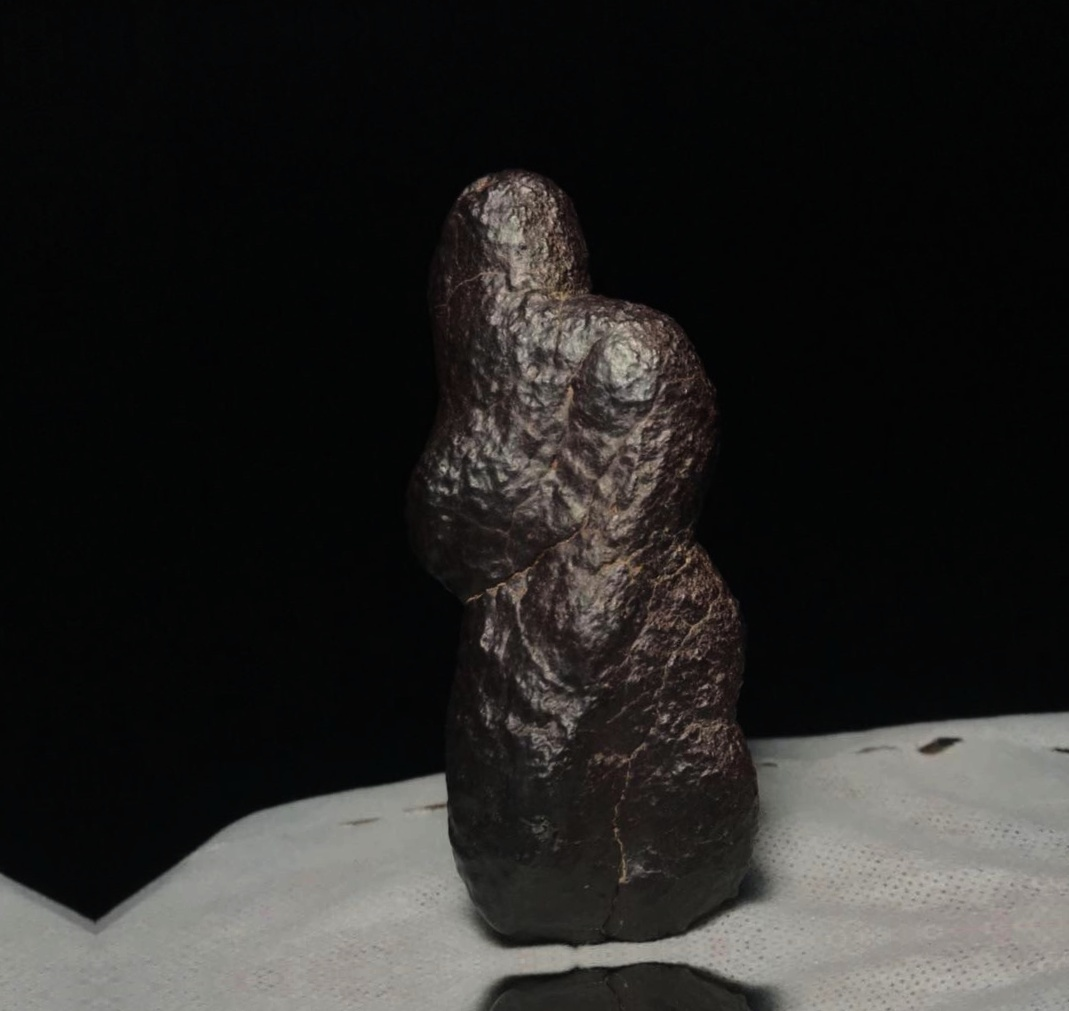halobolite: (332, 129, 831, 970)
